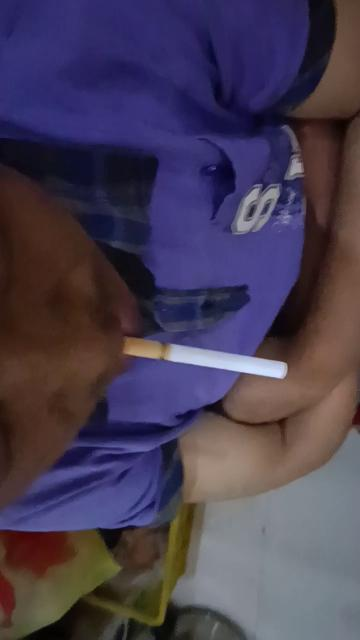Cigarette: (122, 334, 288, 380)
